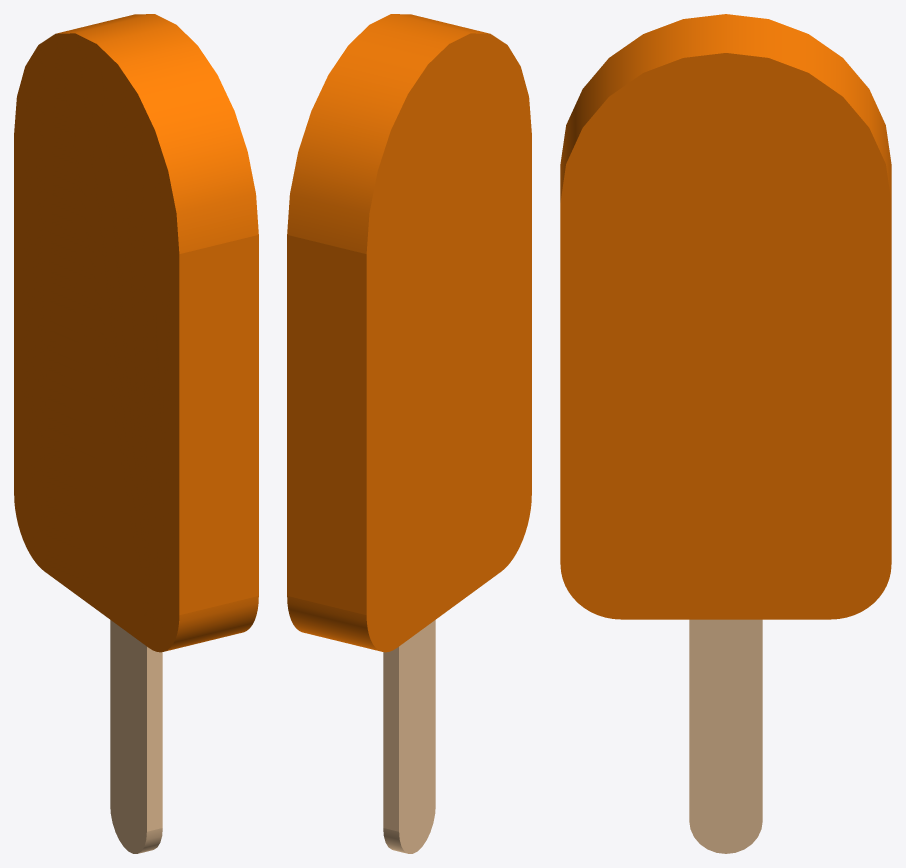
The model's file is popsicle_orange.fbx.
3 renders of one model, left to right at view 1: azimuth 30°, elevation 25°; view 2: azimuth 150°, elevation 25°; view 3: azimuth 270°, elevation 25°, orthographic.
Parts seen in each view (by area): view 1: popsicle; view 2: popsicle; view 3: popsicle.
Part boxes in pixels (box(x1,y1,x2,y2)): popsicle: box(14, 14, 258, 853); popsicle: box(287, 14, 531, 853); popsicle: box(560, 14, 891, 853).
Size of the model in its own units: 5 by 49 by 18.
